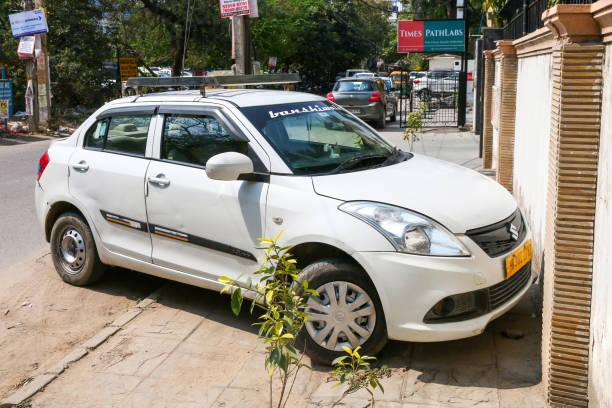suzuki: (506, 217, 523, 248)
